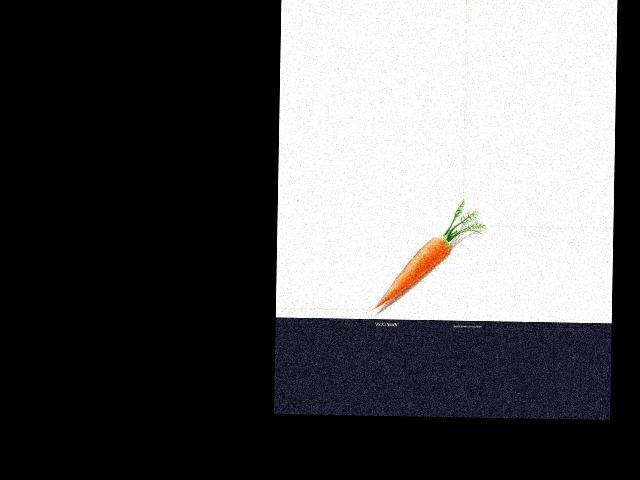carrot: (374, 231, 452, 313)
